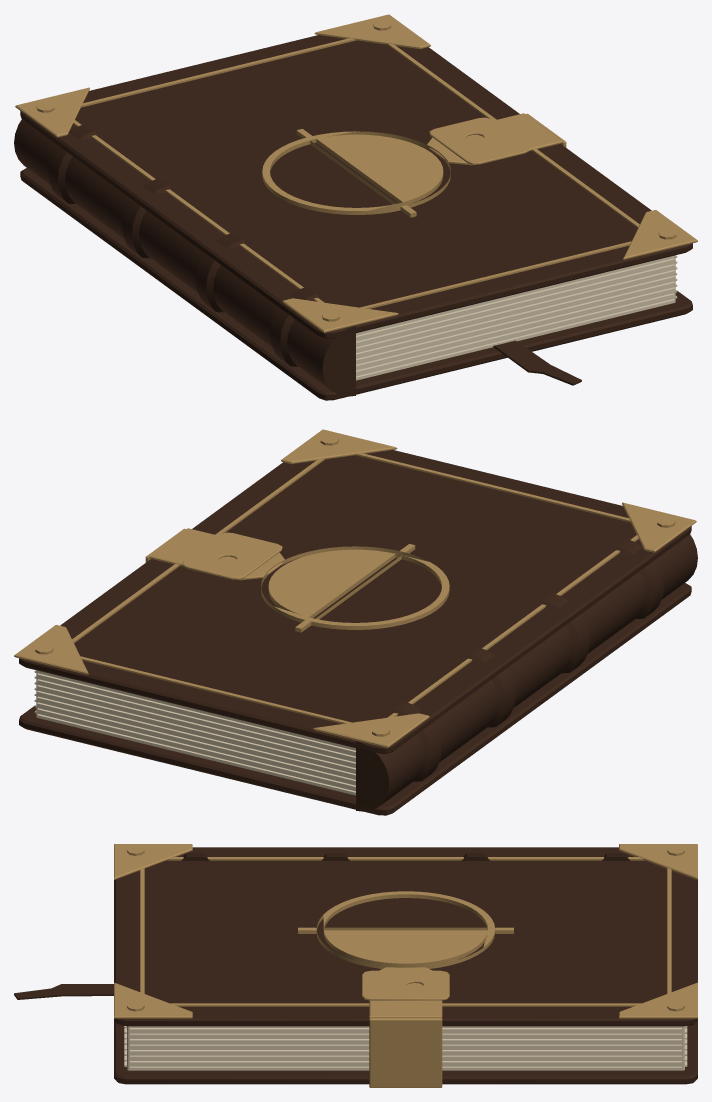
File: strand_log.glb
3 renders of one model, top to bottom at view 1: azimuth 30°, elevation 25°; view 2: azimuth 150°, elevation 25°; view 3: azimuth 270°, elevation 25°, orthographic. The views are drawn at different scales.
Visible parts, largest first — view 1: strand_log; view 2: strand_log; view 3: strand_log.
Boxes of the visible parts, bbox=[...] form: strand_log: bbox=[14, 14, 697, 400]; strand_log: bbox=[14, 429, 697, 815]; strand_log: bbox=[14, 844, 697, 1087].
Bounding box in the file's own units: 0.1435 × 0.0284 × 0.2342.
